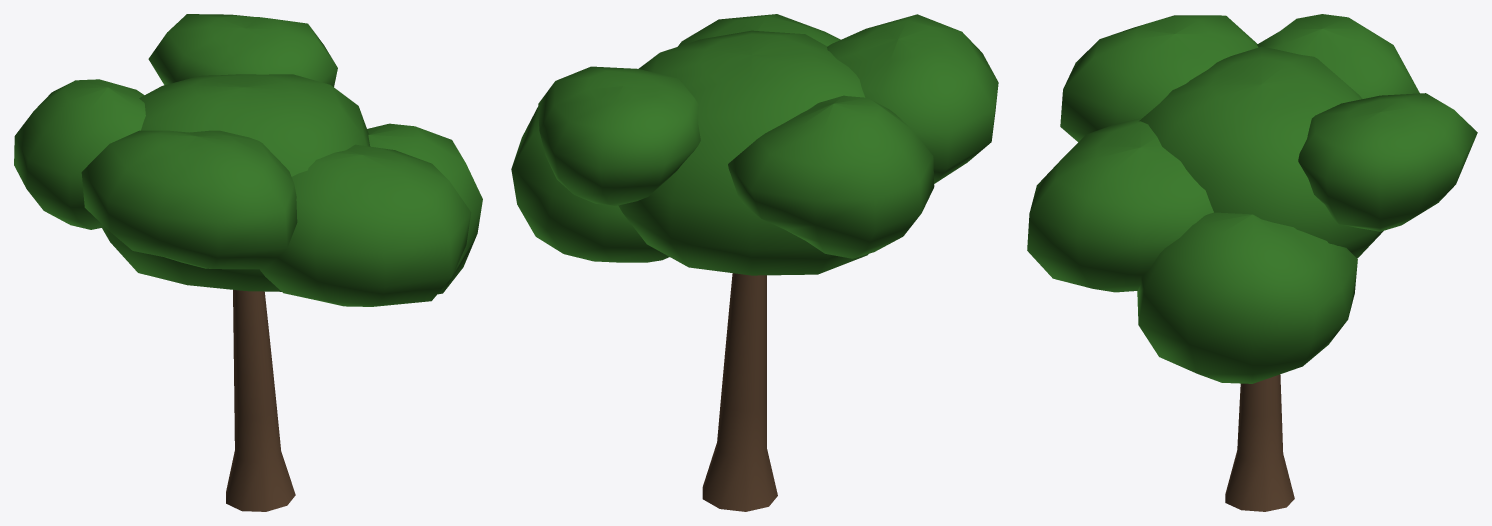
Rendered from SM_BroadTree_A.fbx.
3 renders of one model, left to right at view 1: azimuth 30°, elevation 25°; view 2: azimuth 150°, elevation 25°; view 3: azimuth 270°, elevation 25°, orthographic. The views are drawn at different scales.
Parts seen in each view (by area): view 1: SM_BroadTree_A; view 2: SM_BroadTree_A; view 3: SM_BroadTree_A.
Part boxes in pixels (x1,y1,x2,y2): SM_BroadTree_A: (14, 14, 482, 511); SM_BroadTree_A: (511, 14, 998, 511); SM_BroadTree_A: (1027, 14, 1477, 511).
Size of what is drawn, in the model's own units: 10 by 9.86 by 9.69.
